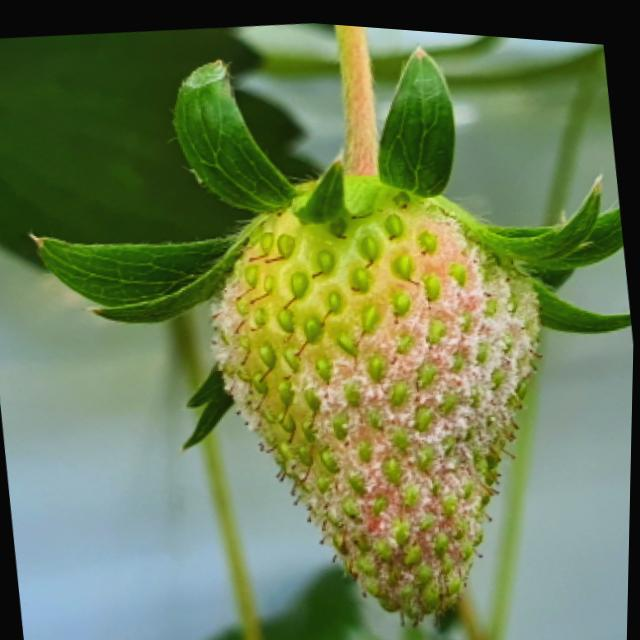Powdery Mildew Fruit: (208, 173, 545, 614)
